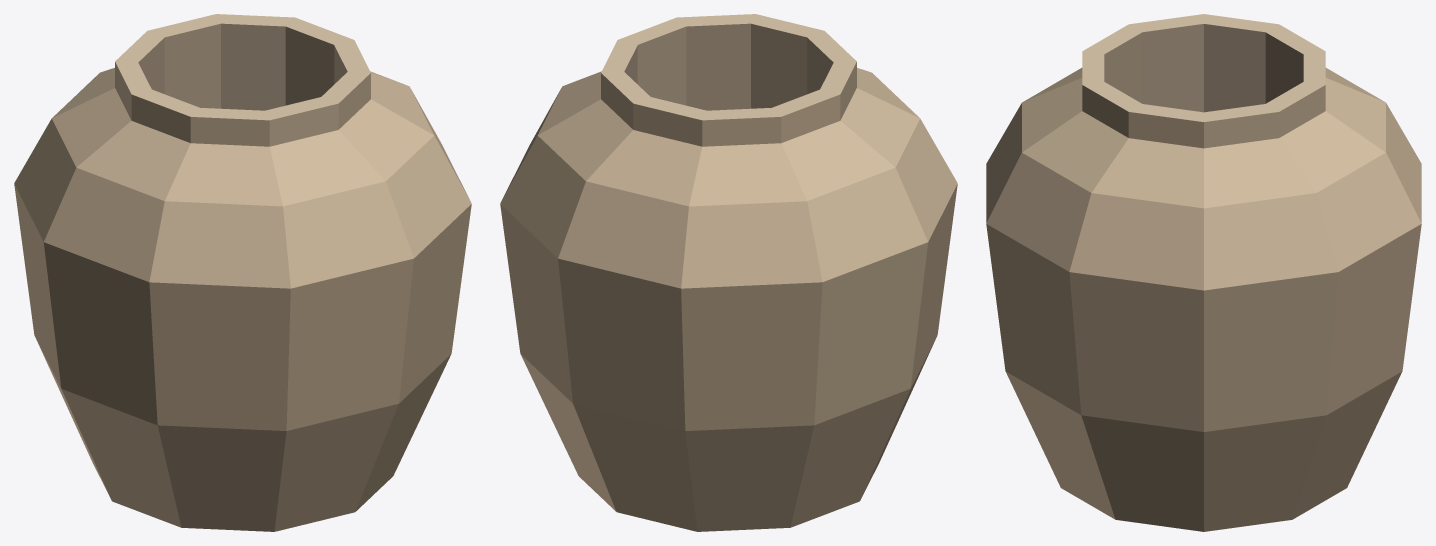
Rendered from SM_Prop_Pot_01.fbx.
3 views of the same model, side by side, from view 1: azimuth 30°, elevation 25°; view 2: azimuth 150°, elevation 25°; view 3: azimuth 270°, elevation 25° (orthographic).
Visible parts, largest first — view 1: SM_Prop_Pot_01; view 2: SM_Prop_Pot_01; view 3: SM_Prop_Pot_01.
Part boxes in pixels (<box>): SM_Prop_Pot_01: <box>14,14,471,531</box>; SM_Prop_Pot_01: <box>500,14,957,531</box>; SM_Prop_Pot_01: <box>986,14,1421,531</box>.
Bounding box in the file's own units: 0.00452 × 0.00436 × 0.0043.
1 material, 1 textured.
